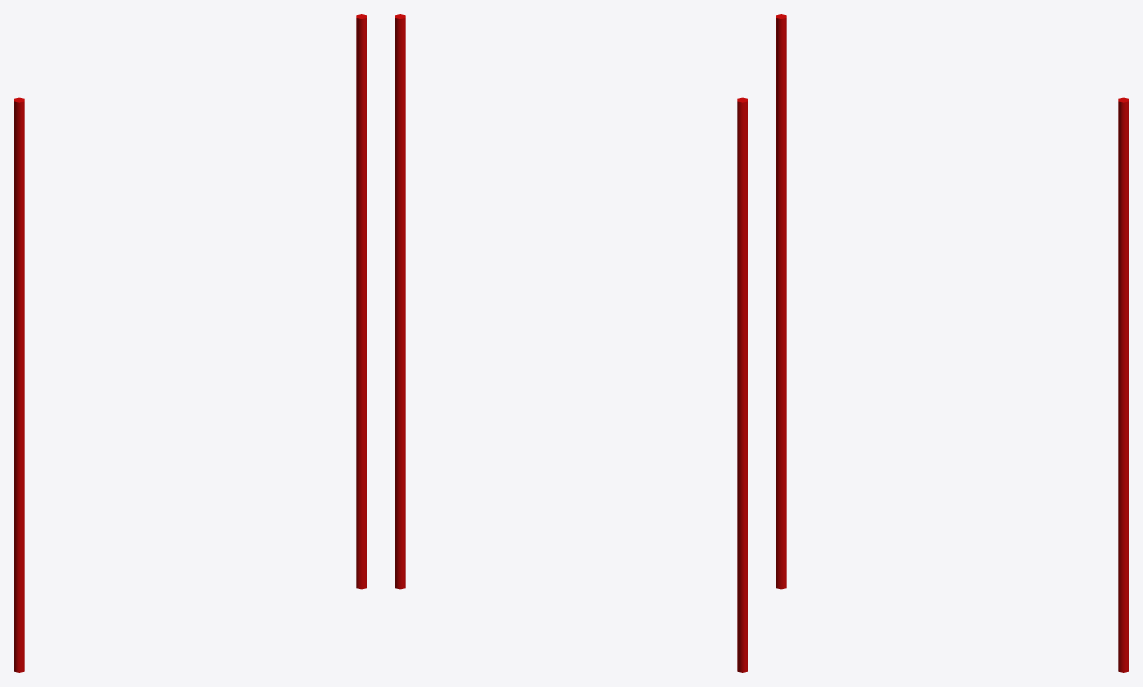
3 views of the same model, side by side, from view 1: azimuth 30°, elevation 25°; view 2: azimuth 150°, elevation 25°; view 3: azimuth 330°, elevation 25° (orthographic).
Visible parts, largest first — view 1: Mesh; view 2: Mesh; view 3: Mesh.
Boxes of the visible parts, <box> form: Mesh: <box>14,14,366,672</box>; Mesh: <box>395,14,747,672</box>; Mesh: <box>776,14,1128,672</box>.
Bounding box in the file's own units: 0.4673 × 0.7217 × 0.0121.
